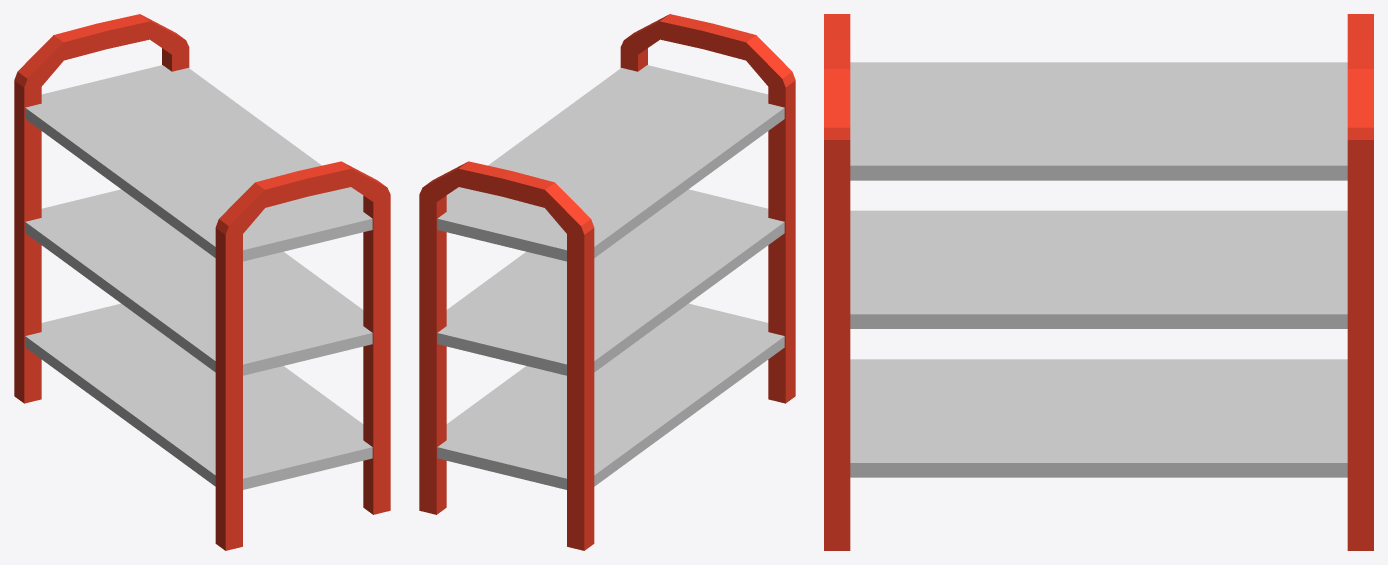
Rendered from Shelf.fbx.
3 views of the same model, side by side, from view 1: azimuth 30°, elevation 25°; view 2: azimuth 150°, elevation 25°; view 3: azimuth 270°, elevation 25° (orthographic). The views are drawn at different scales.
Parts seen in each view (by area): view 1: Cube, Cube.002; view 2: Cube, Cube.002; view 3: Cube, Cube.002.
Boxes of the visible parts, box(x1,y1,x2,y2) form: Cube: box(25, 65, 372, 489); Cube.002: box(14, 14, 390, 550); Cube: box(437, 65, 784, 489); Cube.002: box(419, 14, 795, 550); Cube: box(850, 62, 1347, 477); Cube.002: box(824, 14, 1373, 550).
Bounding box in the file's own units: 90.81 × 185 × 201.
